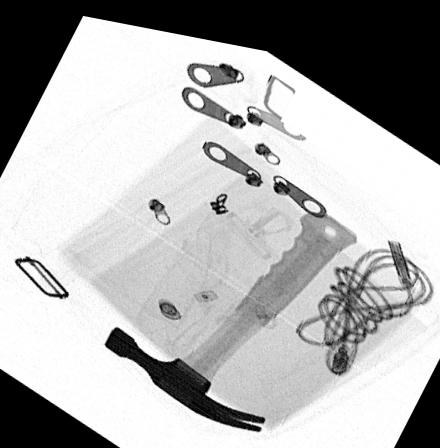Hammer: (103, 197, 360, 422)
